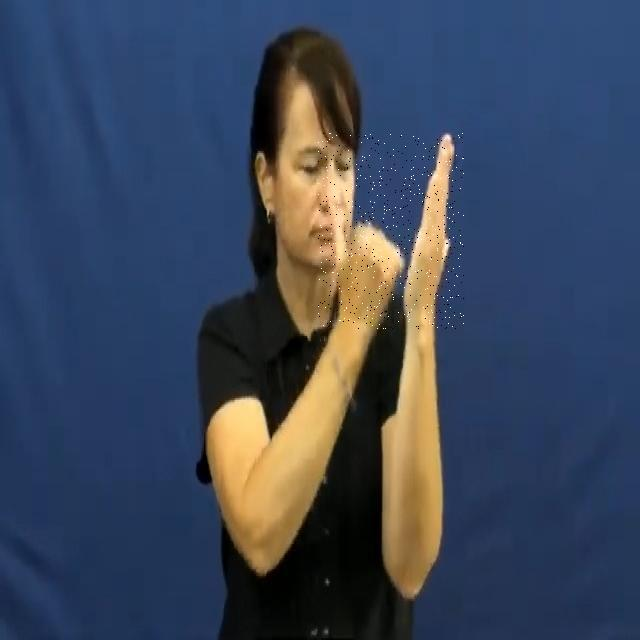menu: (318, 133, 464, 329)
